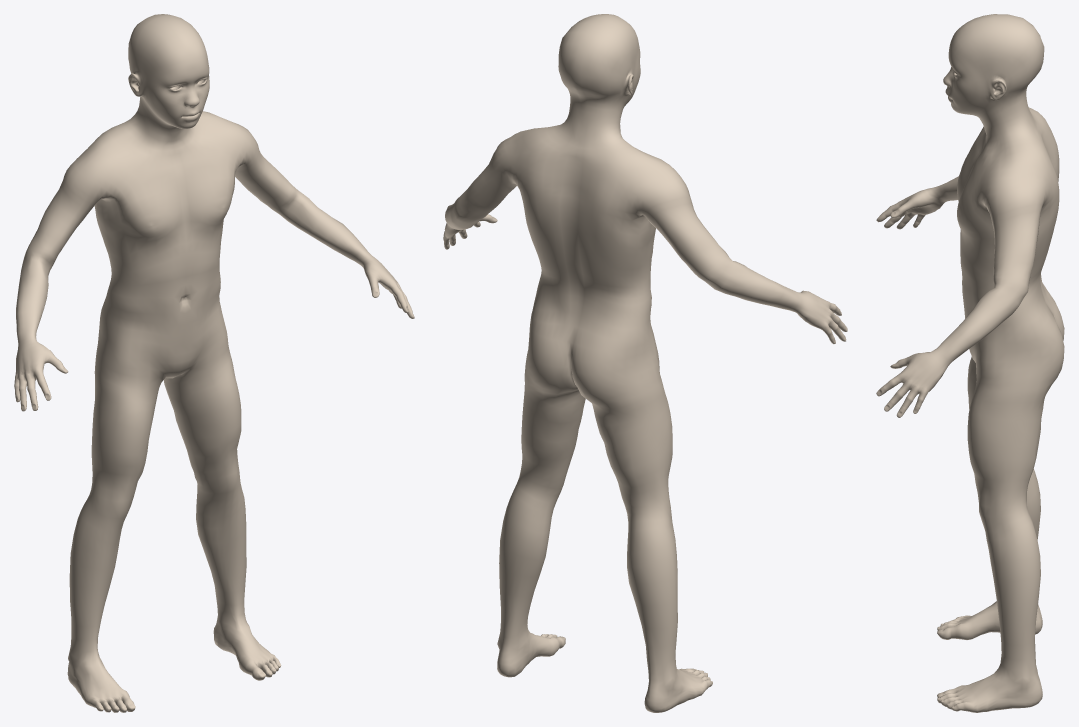
3 views of the same model, side by side, from view 1: azimuth 30°, elevation 25°; view 2: azimuth 150°, elevation 25°; view 3: azimuth 270°, elevation 25° (orthographic).
Parts seen in each view (by area): view 1: Human; view 2: Human; view 3: Human.
Part boxes in pixels (x1=…): Human: x1=14, y1=14, x2=414, y2=712; Human: x1=443, y1=14, x2=847, y2=712; Human: x1=876, y1=14, x2=1064, y2=712.
Bounding box in the file's own units: 1.07 × 1.72 × 0.4495.
